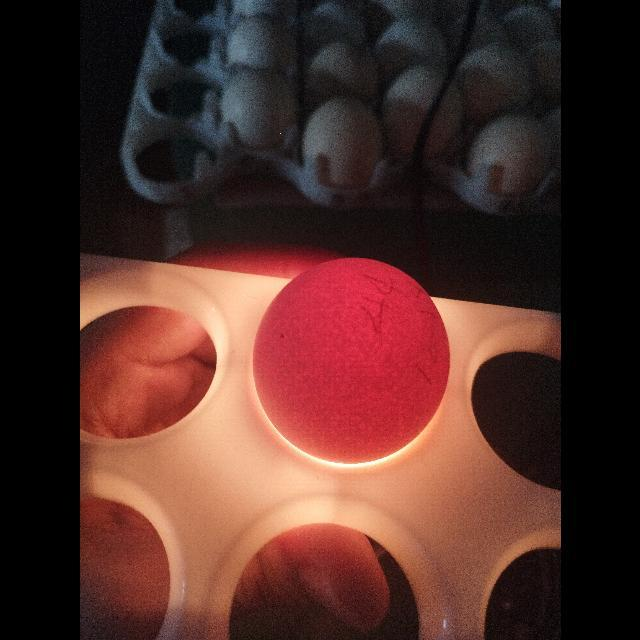A - Good: (248, 254, 456, 472)
